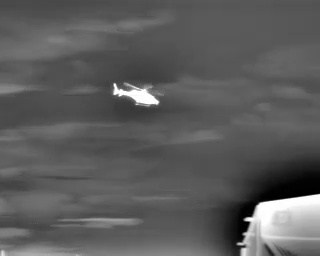HELICOPTER: (111, 74, 177, 115)
